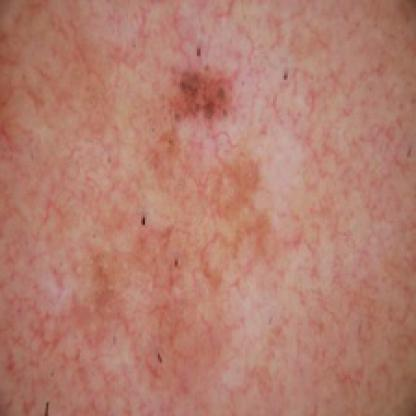malignant: (98, 43, 282, 321), (20, 180, 67, 262)
